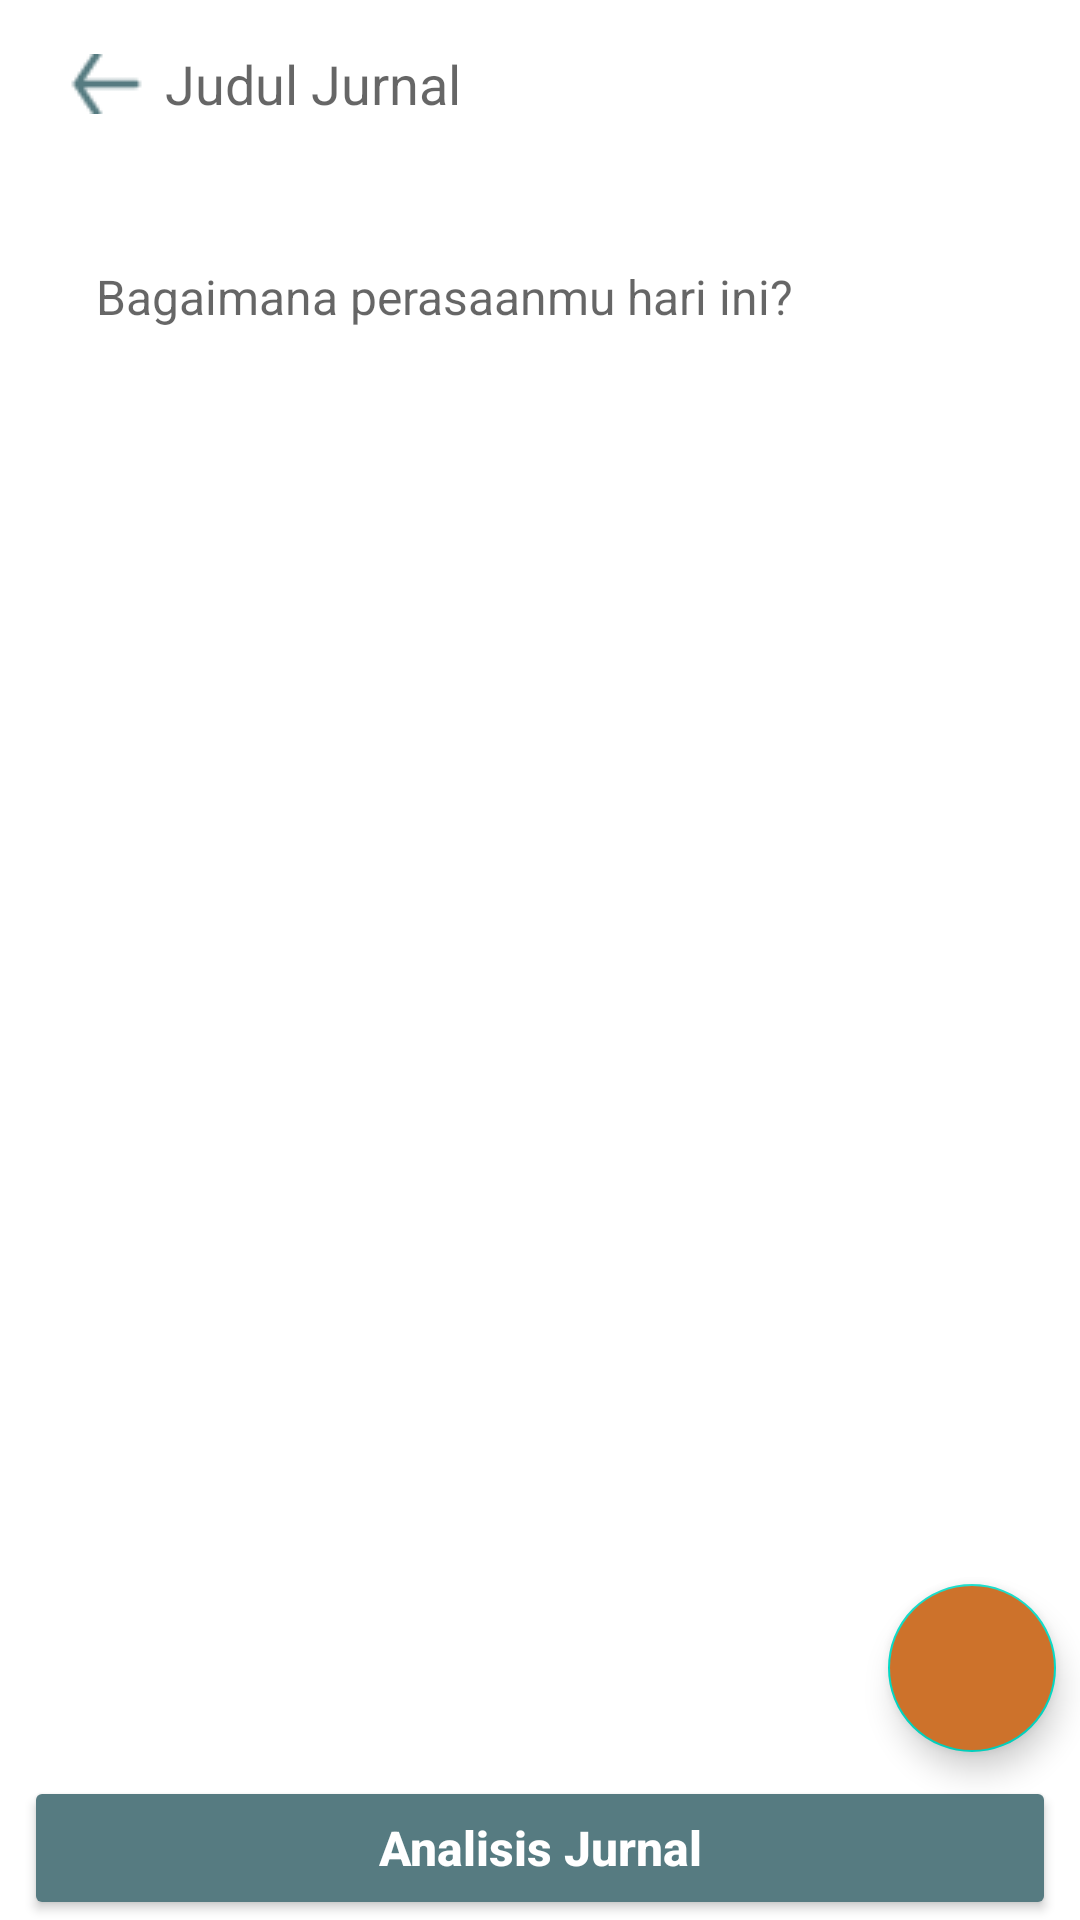

Named icons in this screenshot (1080×1920) and their centers, (x=x, y=y):
Kembali: (x=106, y=84)
